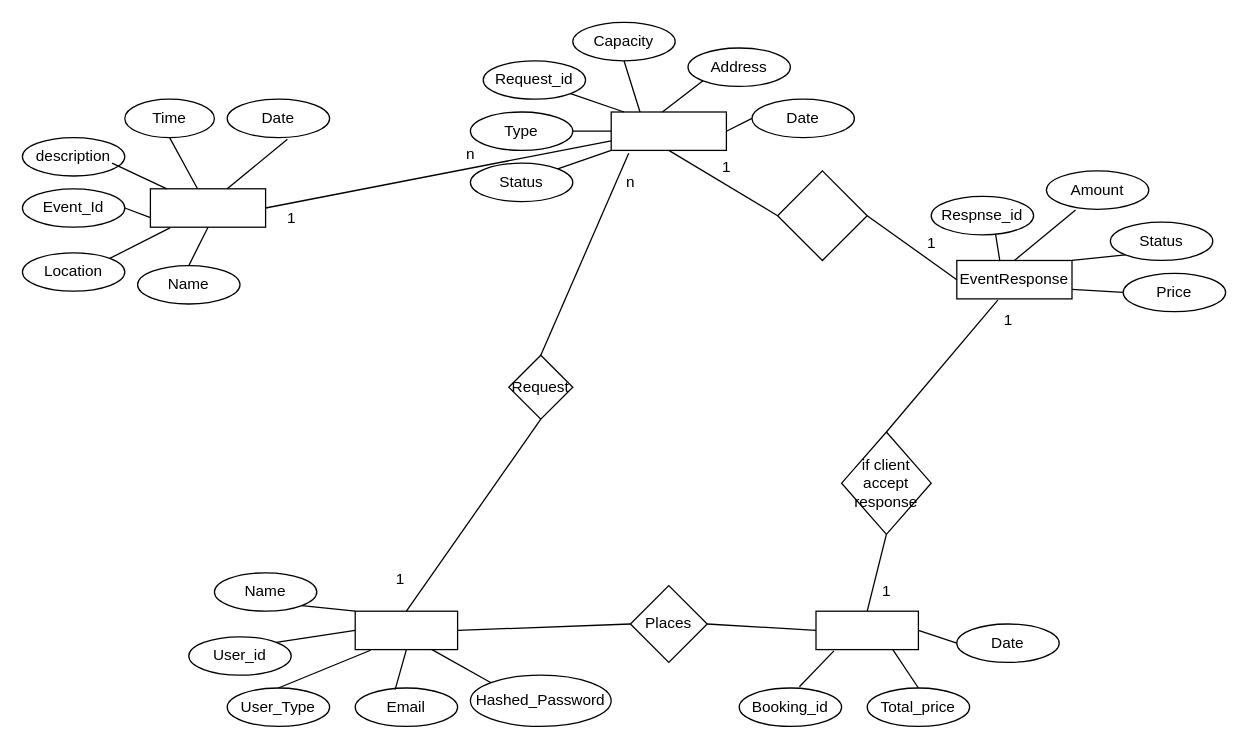
Image size: 1248x749. Some labels were removed from this diagram. The shapes that lost their labels are listed below. From the top down, each one's centre as x and y in pixels, then its label:
At pixel 668 130: "EventRequest".
At pixel 207 207: "Event".
At pixel 821 215: "if admin accept request".
At pixel 406 630: "User".
At pixel 866 630: "Booking".
